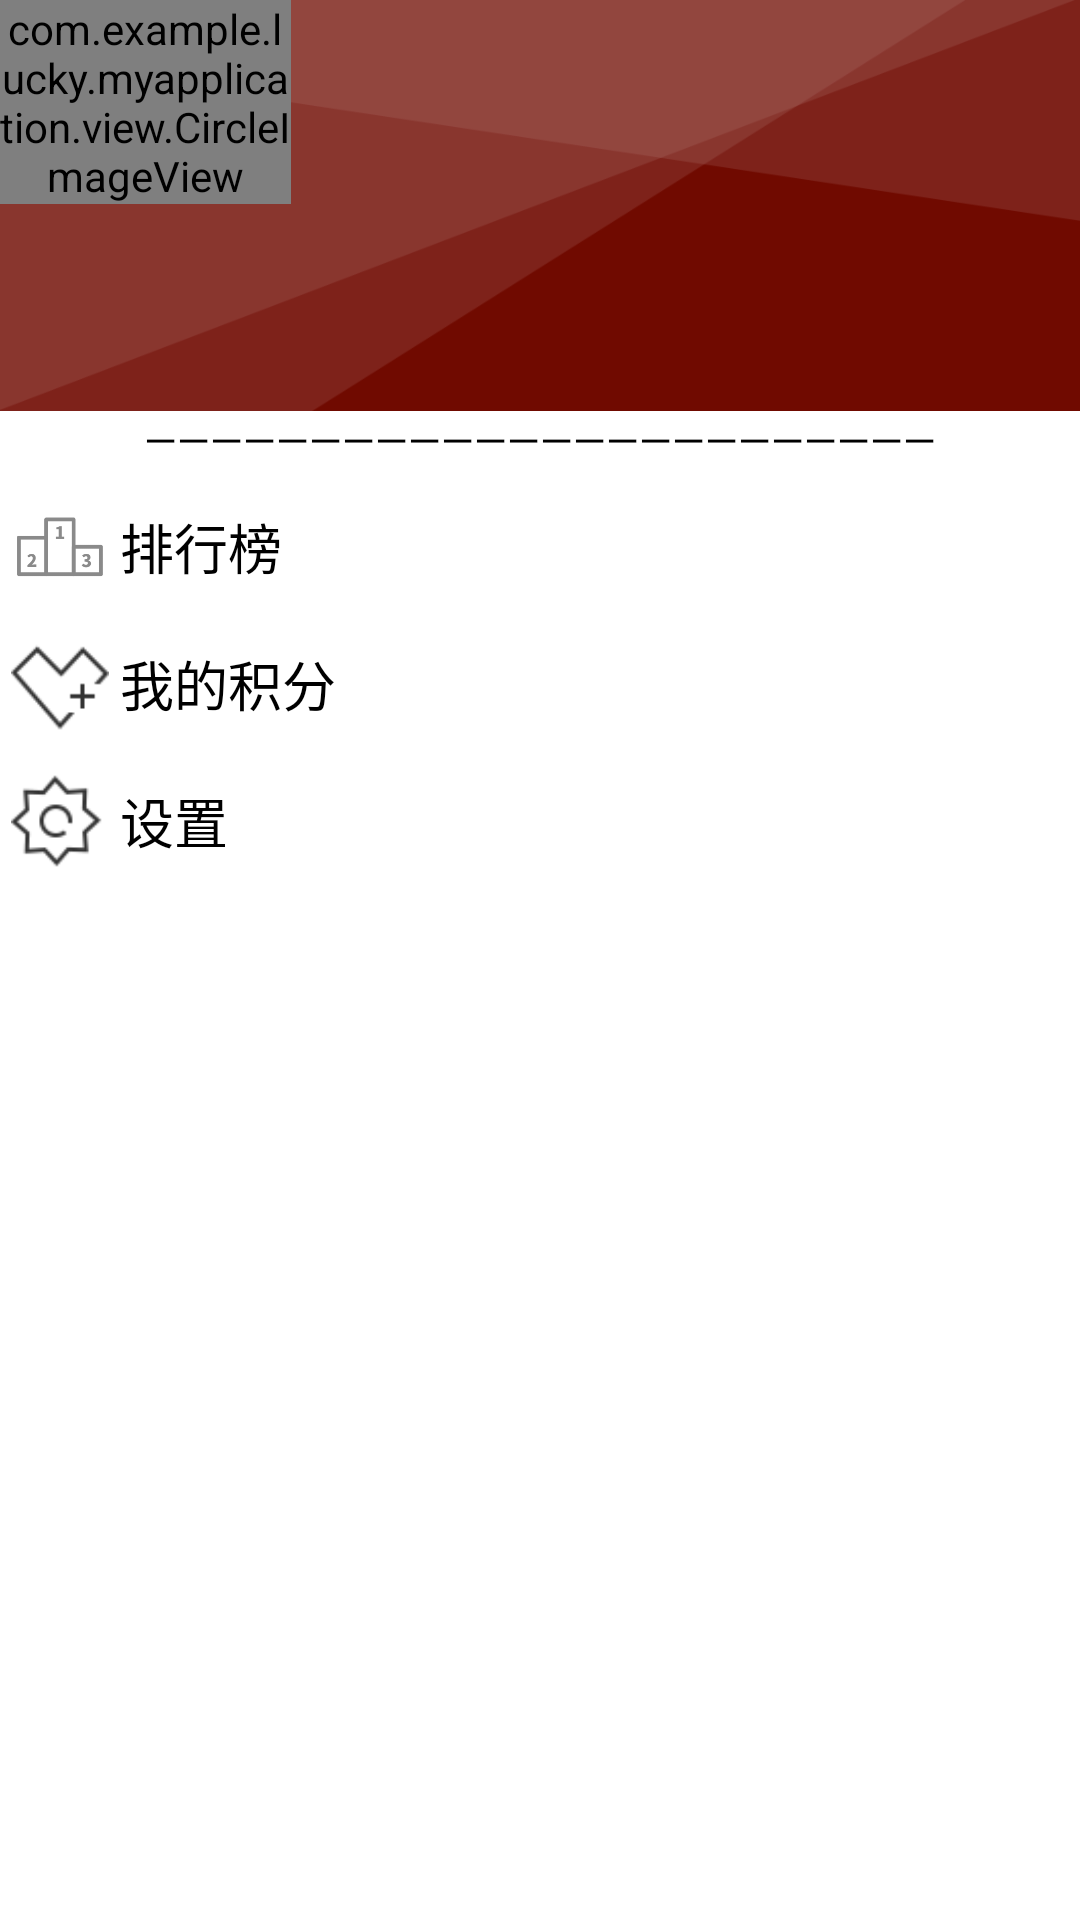

Point at icon controls on the screen. Image size 1080×1920, points as (x=x, y=y).
grade: (x=60, y=546)
